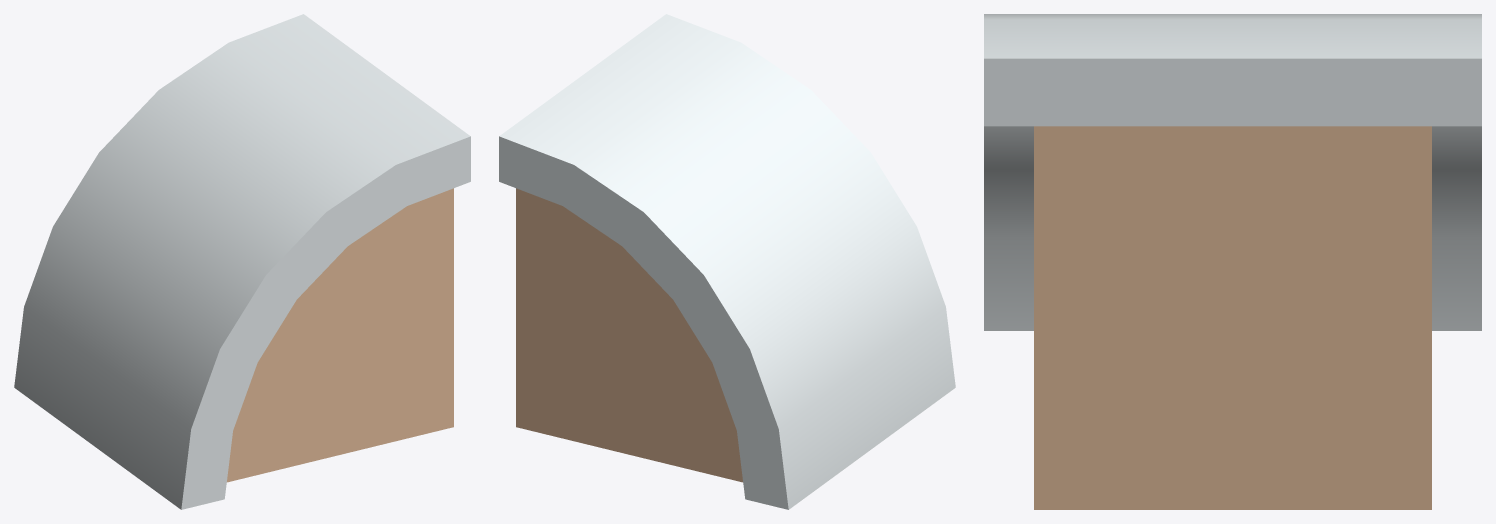
The picture shows the model from 3 angles, left to right: view 1: azimuth 30°, elevation 25°; view 2: azimuth 150°, elevation 25°; view 3: azimuth 270°, elevation 25°; orthographic projection. The views are drawn at different scales.
Visible parts, largest first — view 1: blockSnowCurveHalf; view 2: blockSnowCurveHalf; view 3: blockSnowCurveHalf.
Boxes of the visible parts, <box> form: blockSnowCurveHalf: <box>14,14,470,509</box>; blockSnowCurveHalf: <box>499,14,955,509</box>; blockSnowCurveHalf: <box>984,14,1481,509</box>.
Size of the model in its own units: 1 by 1 by 1.
